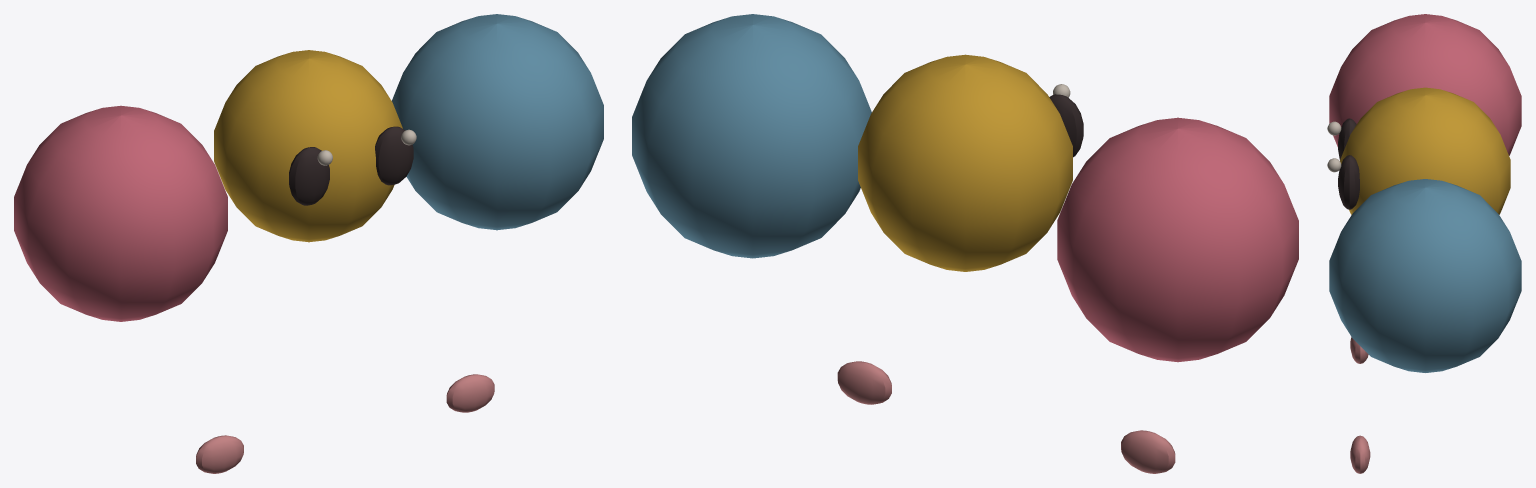
The model's file is p43ebf047.glb.
3 renders of one model, left to right at view 1: azimuth 30°, elevation 25°; view 2: azimuth 150°, elevation 25°; view 3: azimuth 270°, elevation 25°, orthographic. The views are drawn at different scales.
Visible parts, largest first — view 1: pet_p43ebf047; view 2: pet_p43ebf047; view 3: pet_p43ebf047.
Part boxes in pixels (x1,y1,x2,y2): pet_p43ebf047: (14,14,603,473); pet_p43ebf047: (632,14,1298,473); pet_p43ebf047: (1327,14,1521,473).
Bounding box in the file's own units: 0.5373 × 0.3264 × 0.179.
